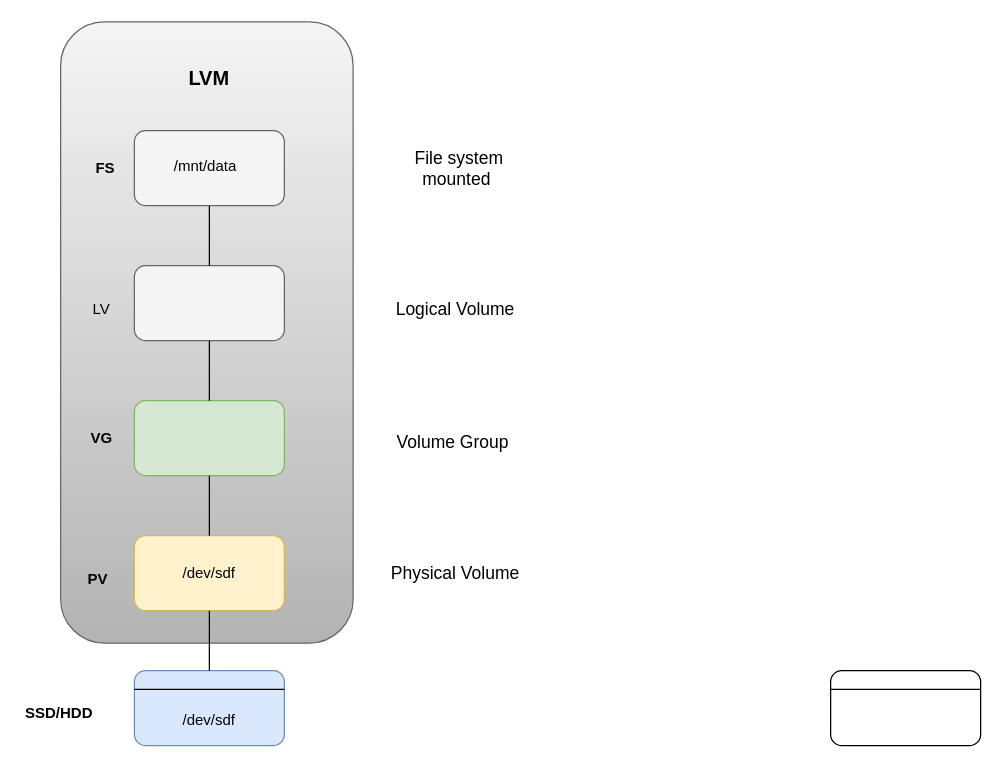
The diagram is 1004 pixels wide and 768 high, and some of its shapes have lost their labels. The shapes that lost their labels are listed below. From the top down, each one's centre as x and y in pixels, then its label:
At point 208,302: "/dev/datavg/data".
At point 208,437: "datavg".
